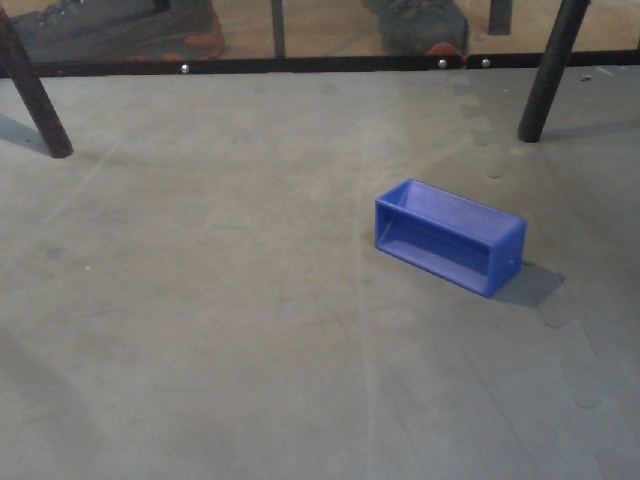BlueSample: (370, 176, 531, 304)
